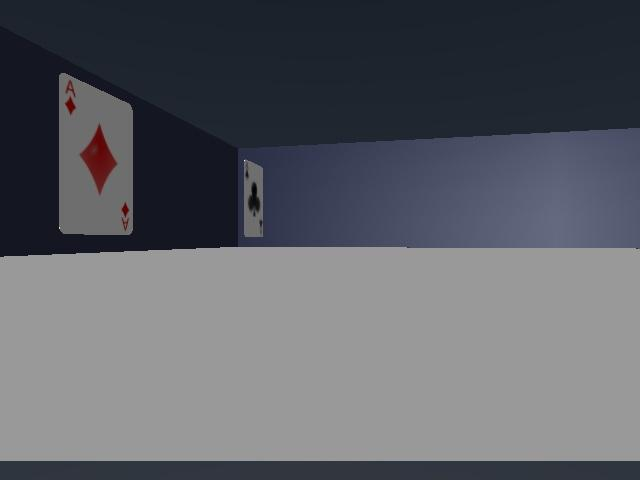club: (243, 160, 263, 236)
diamond: (59, 73, 133, 234)
